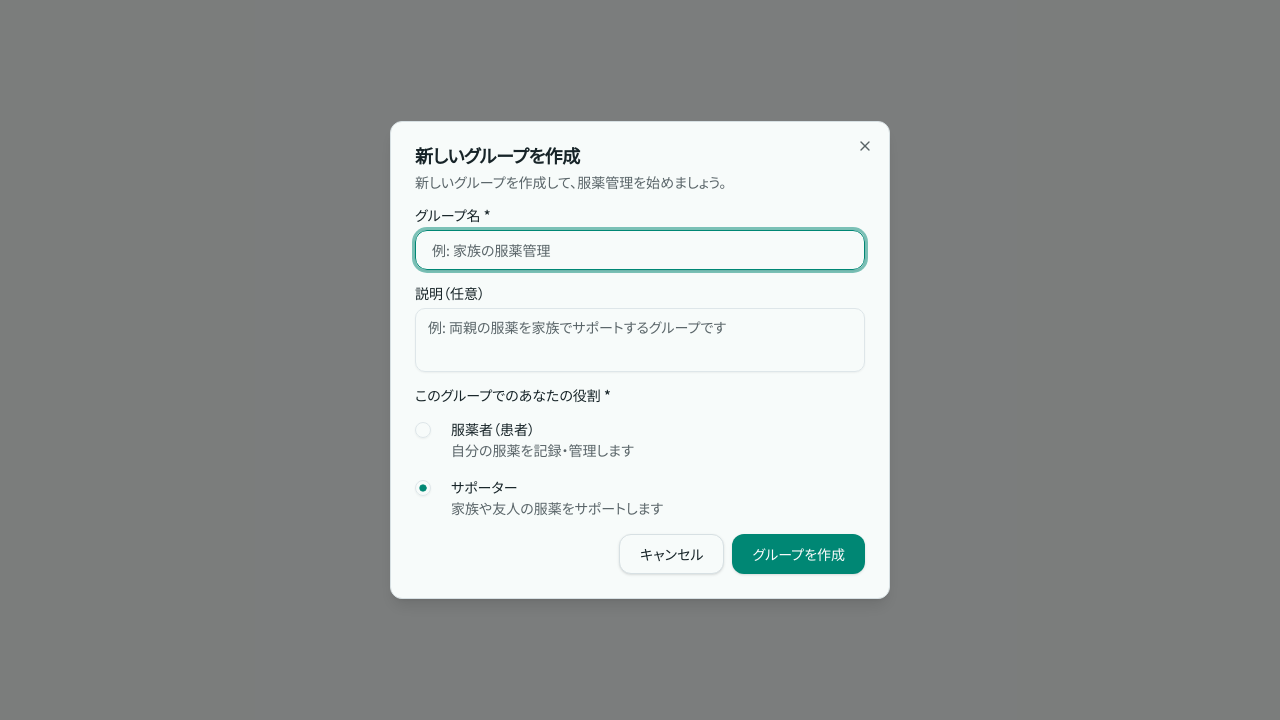
Test case: CreateGroupDialog › グループ名が空の場合バリデーションエラー
The image size is (1280, 720).
Click the button "グループを作成".
click(799, 554)  # box [732,534,865,574]
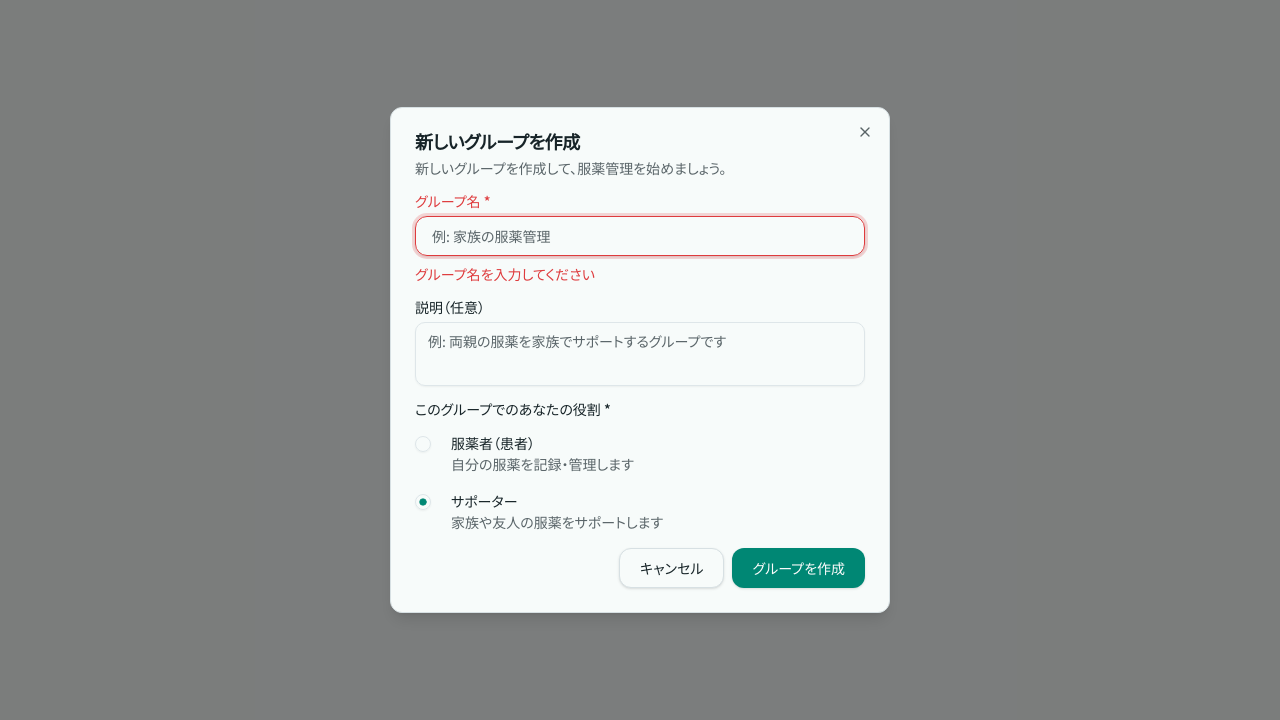
Expected: the text "グループ名を入力してください" is shown, [415,264,595,284]
